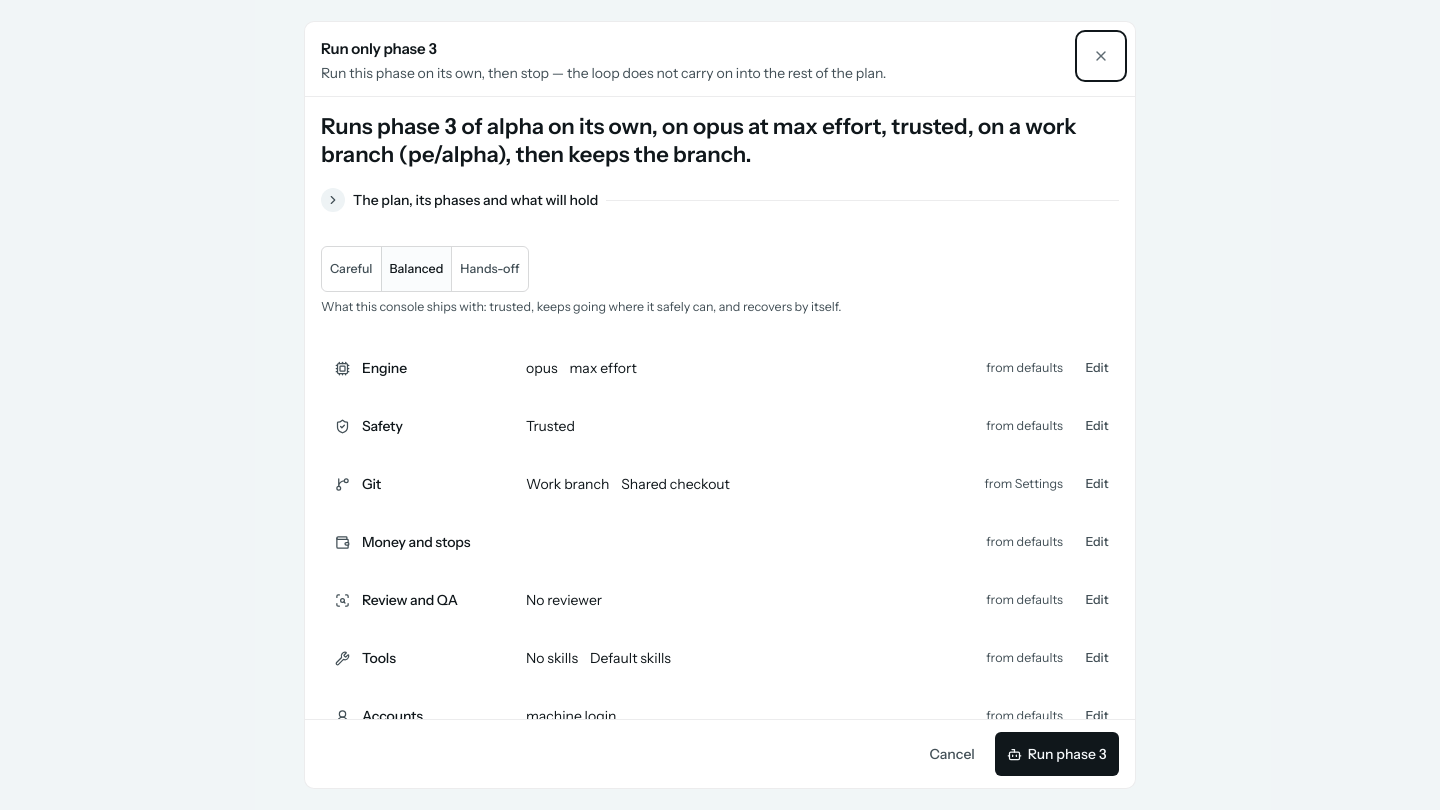
Test: the field matrix › opens on the Automation preferences, as the footer promises
Click the button "Edit" in the row of "Default skills": (1097, 658) [1075,636,1119,680]
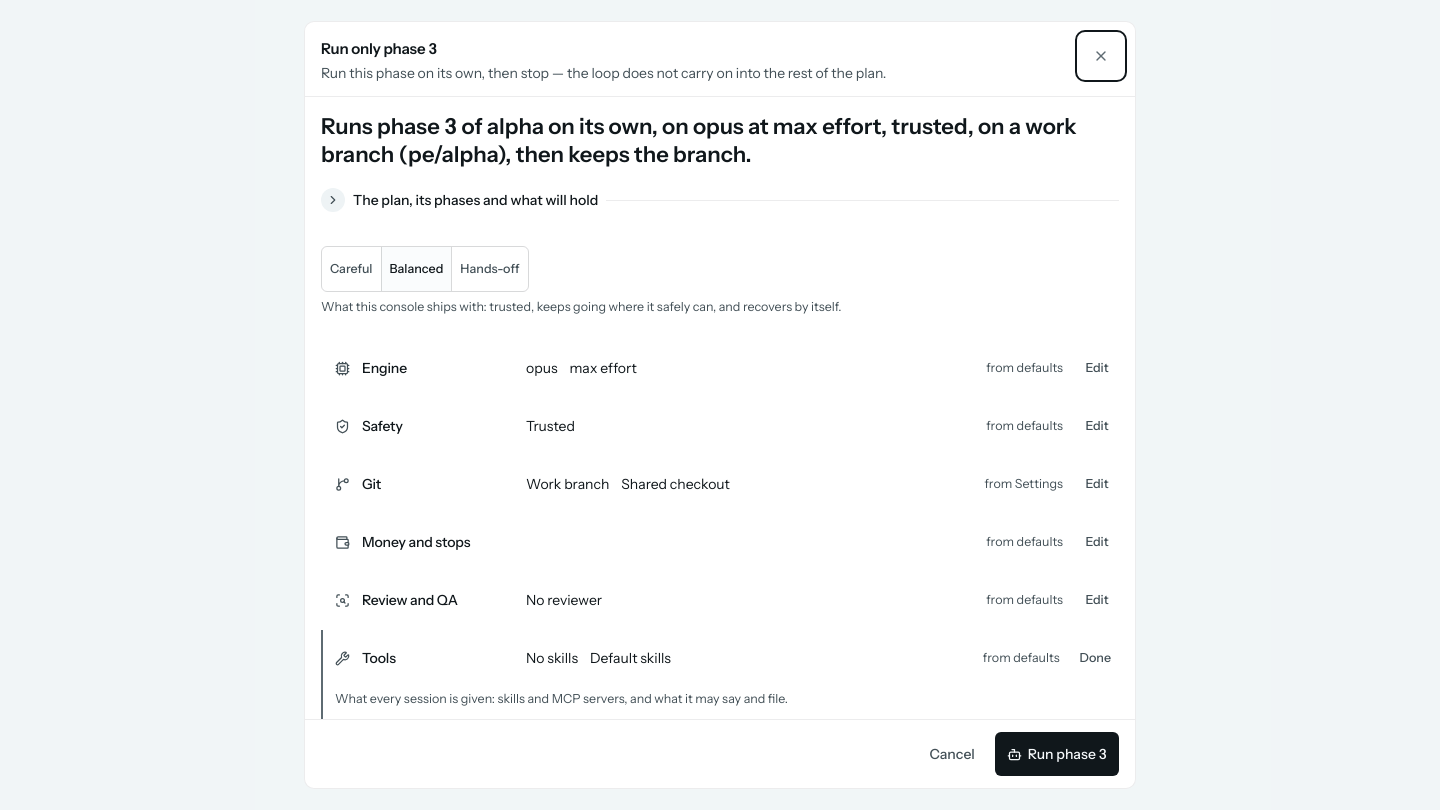
Click the button "Edit" next to "from Settings": (1097, 484) [1075,462,1119,506]
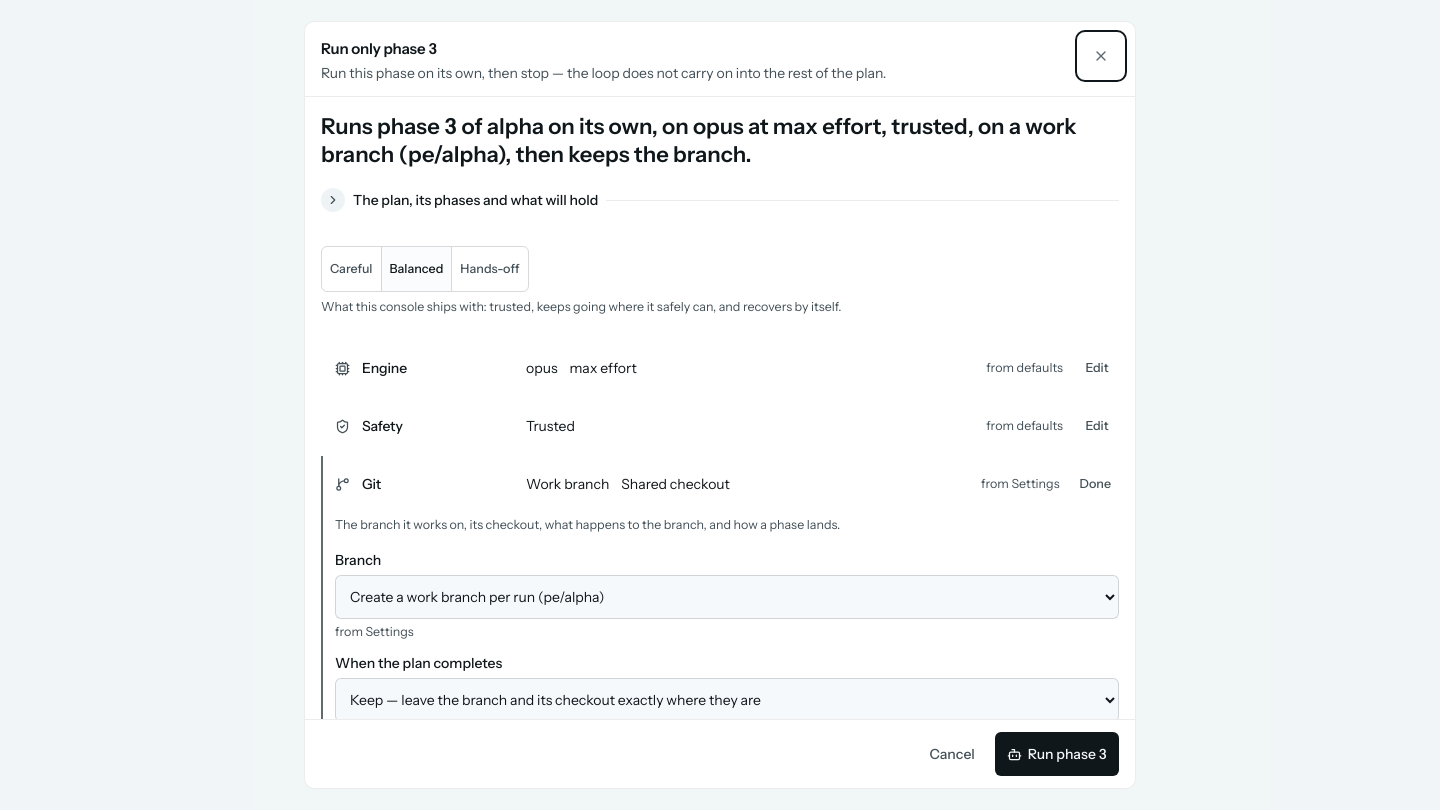
Now the dropdown labelled "Branch" shows "Create a work branch per run (pe/alpha)", box [335,575,1119,619]
Now the dropdown labelled "When the plan completes" shows "Keep — leave the branch and its checkout exactly where they are", box [335,678,1119,719]
Now the 2nd text "from Settings" is shown, box [335,623,414,641]
